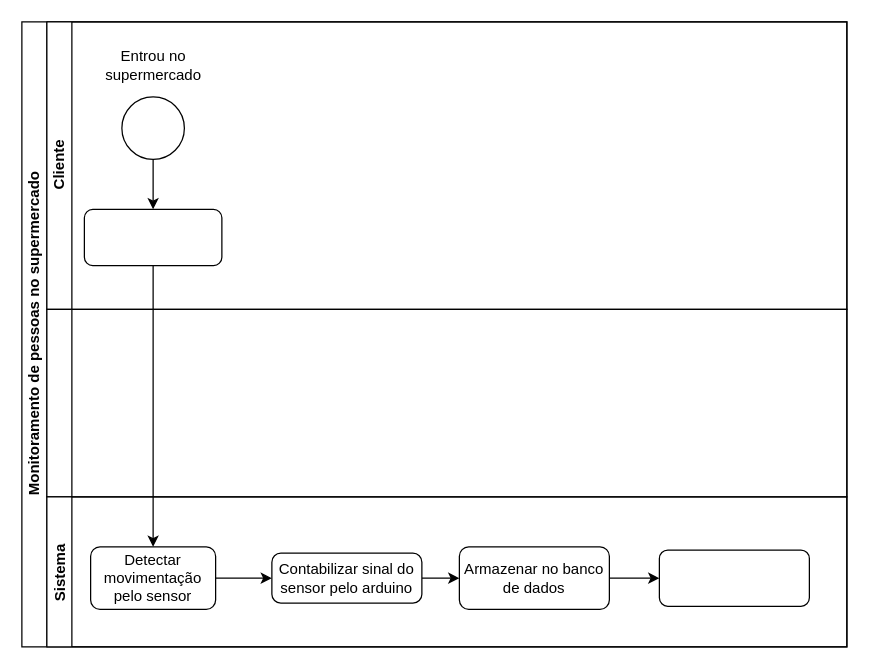
Image size: 869x669. Some labels were removed from this diagram. The centre of each missing label's shape, as x and y in pixels:
"Andar até algum setor" belongs at [152,237].
"Exibir informações no dashboard do site" belongs at [733,577].
"Supermercado" belongs at [446,402].
